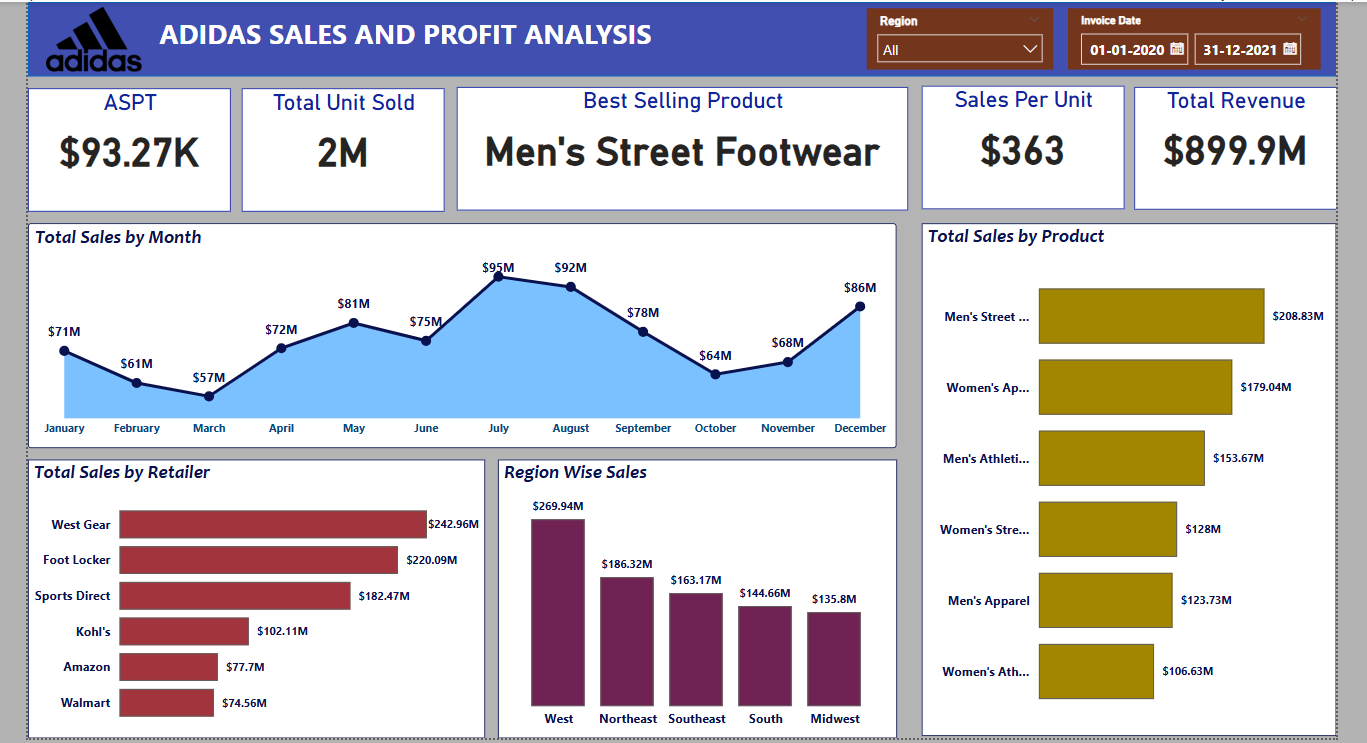

What the dashboard file says about the page in this screenshot:
{"tool":"powerbi","page":{"name":"Sales","canvas":[1280,720],"ordinal":0},"visuals":[{"type":"group","id":"g1","title":"Group 1","box":[0,0,1280.3,72.1],"z":0},{"type":"shape","box":[0,0,1280.3,72.7],"z":0,"group":"g2"},{"type":"group","id":"g2","title":"Group 2","box":[0,0,1280.3,72.7],"z":4,"group":"g1"},{"type":"textbox","box":[123.5,6.9,533.8,60.4],"z":1000,"group":"g2"},{"type":"card","title":"Total Revenue","fields":{"Values":["Sum(Table1.Total Sales)"]},"box":[1082.2,83.2,198.1,119.8],"z":1000},{"type":"image","box":[0,0,129,72.7],"z":2000,"group":"g2"},{"type":"card","title":"Best Selling Product","fields":{"Values":["Table1.Best Selling Product"]},"box":[419.4,83.2,441.4,121.1],"z":2000},{"type":"card","title":"Total Unit Sold","fields":{"Values":["Table1.Total Unit Sold"]},"box":[209.1,84.4,198.1,121.1],"z":4000},{"type":"areaChart","title":"Total Sales by Month","fields":{"Category":["Table1.Invoice Date.Variation.Date Hierarchy.Month"],"Y":["Sum(Table1.Total Sales)"]},"box":[0,216.4,849.9,220.1],"z":5000},{"type":"columnChart","title":"Region Wise Sales","fields":{"Y":["Table1.Region Wise sales"],"Category":["Table1.Region"]},"box":[459.8,447.6,390.1,272.7],"z":6000},{"type":"barChart","title":"Total Sales by Product","fields":{"Y":["Sum(Table1.Total Sales)"],"Category":["Table1.Product"]},"box":[874.3,216.4,406,501.4],"z":7000},{"type":"barChart","title":"Total Sales by Retailer","fields":{"Category":["Table1.Retailer"],"Y":["Sum(Table1.Total Sales)"]},"box":[0,447.6,447.6,272.7],"z":8000},{"type":"card","title":"ASPT","fields":{"Values":["Table1.Average Sales per Transaction"]},"box":[0,84.4,198.1,121.1],"z":9000},{"type":"card","title":"Sales Per Unit","fields":{"Values":["Table1.Sales per Unit"]},"box":[874.3,81.9,198.1,121.1],"z":10000},{"type":"slicer","fields":{"Values":["Table1.Region"]},"box":[820.5,6.1,182.2,59.9],"z":11000},{"type":"slicer","fields":{"Values":["Table1.Invoice Date"]},"box":[1017.4,6.1,247,59.9],"z":12000}]}

Visuals, with their boxes on the page's 1280x720 design canvas (x1, y1, x2, y2). These are canvas units, not pixel positions in the 1367x743 screenshot, which may show the page scaled, cropped or inside an application window:
"Group 1" group: BBox(0, 0, 1280, 72)
shape: BBox(0, 0, 1280, 73)
"Group 2" group: BBox(0, 0, 1280, 73)
textbox: BBox(124, 7, 657, 67)
"Total Revenue" card: BBox(1082, 83, 1280, 203)
image: BBox(0, 0, 129, 73)
"Best Selling Product" card: BBox(419, 83, 861, 204)
"Total Unit Sold" card: BBox(209, 84, 407, 206)
"Total Sales by Month" areaChart: BBox(0, 216, 850, 436)
"Region Wise Sales" columnChart: BBox(460, 448, 850, 720)
"Total Sales by Product" barChart: BBox(874, 216, 1280, 718)
"Total Sales by Retailer" barChart: BBox(0, 448, 448, 720)
"ASPT" card: BBox(0, 84, 198, 206)
"Sales Per Unit" card: BBox(874, 82, 1072, 203)
slicer - Table1.Region: BBox(820, 6, 1003, 66)
slicer - Table1.Invoice Date: BBox(1017, 6, 1264, 66)
